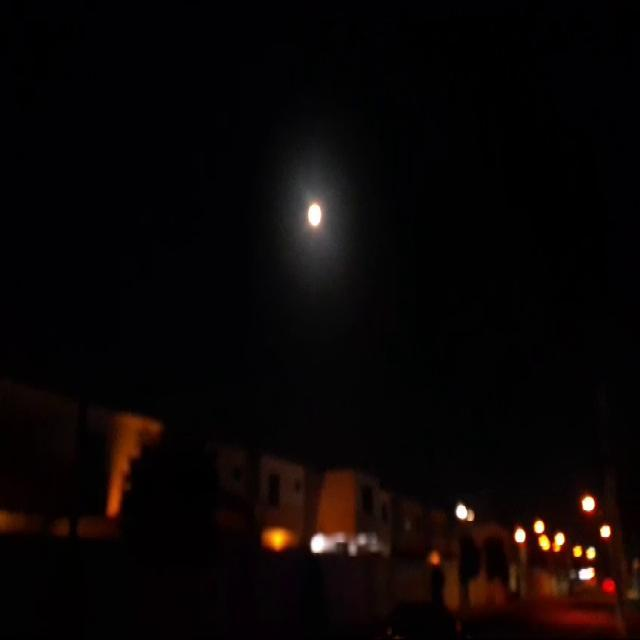moon: (300, 200, 323, 234)
